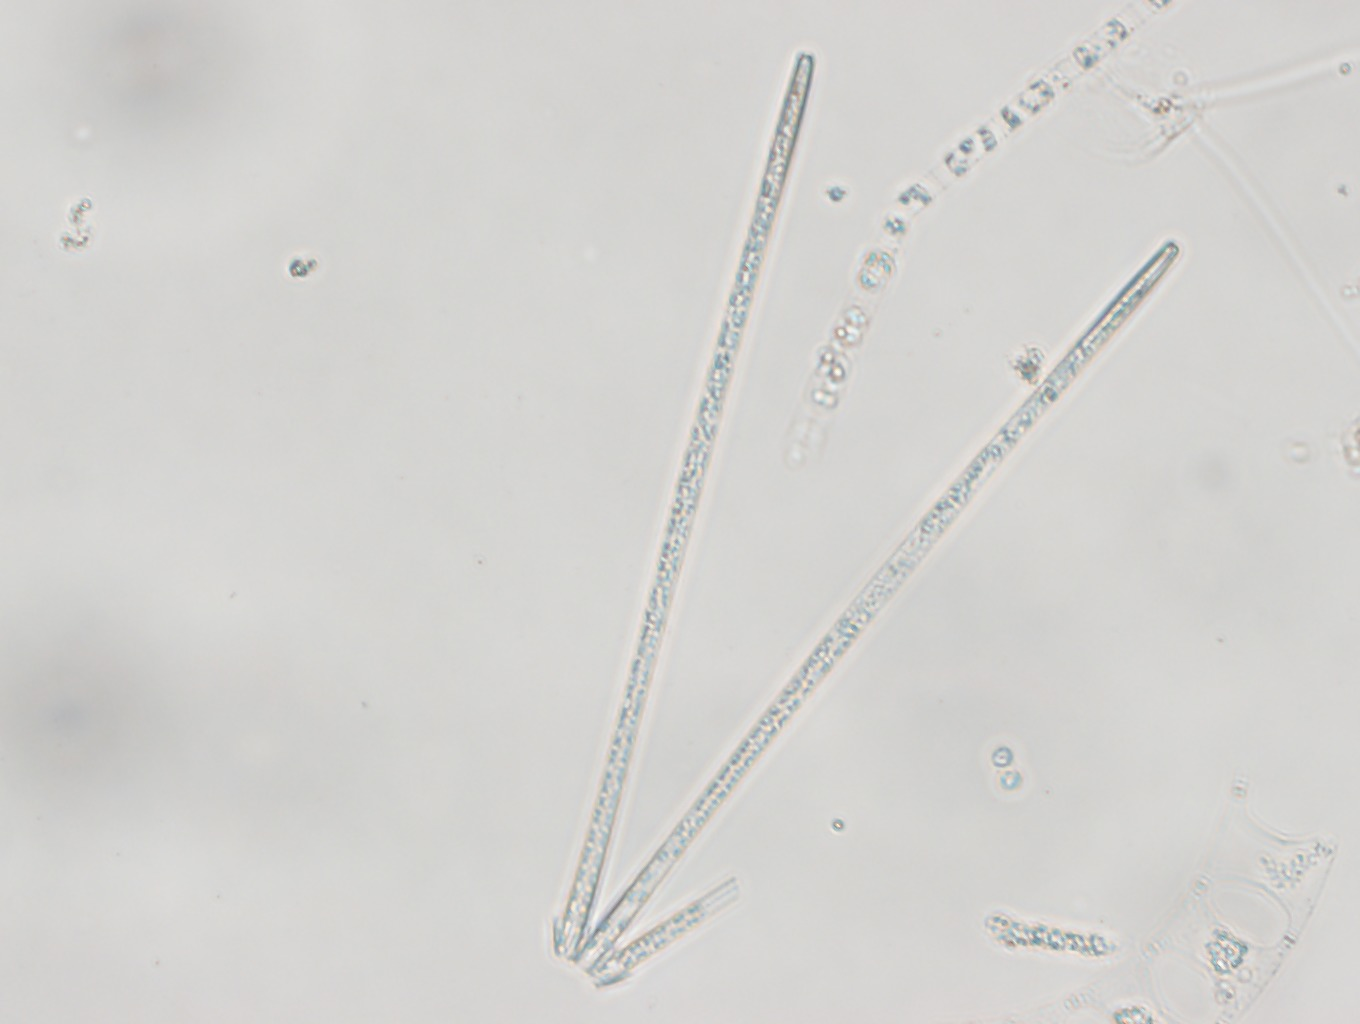eucampia: (1103, 776, 1341, 1024)
skeletonema: (782, 1, 1171, 469)
thalassionema frauenfeldii: (549, 44, 1180, 984)
